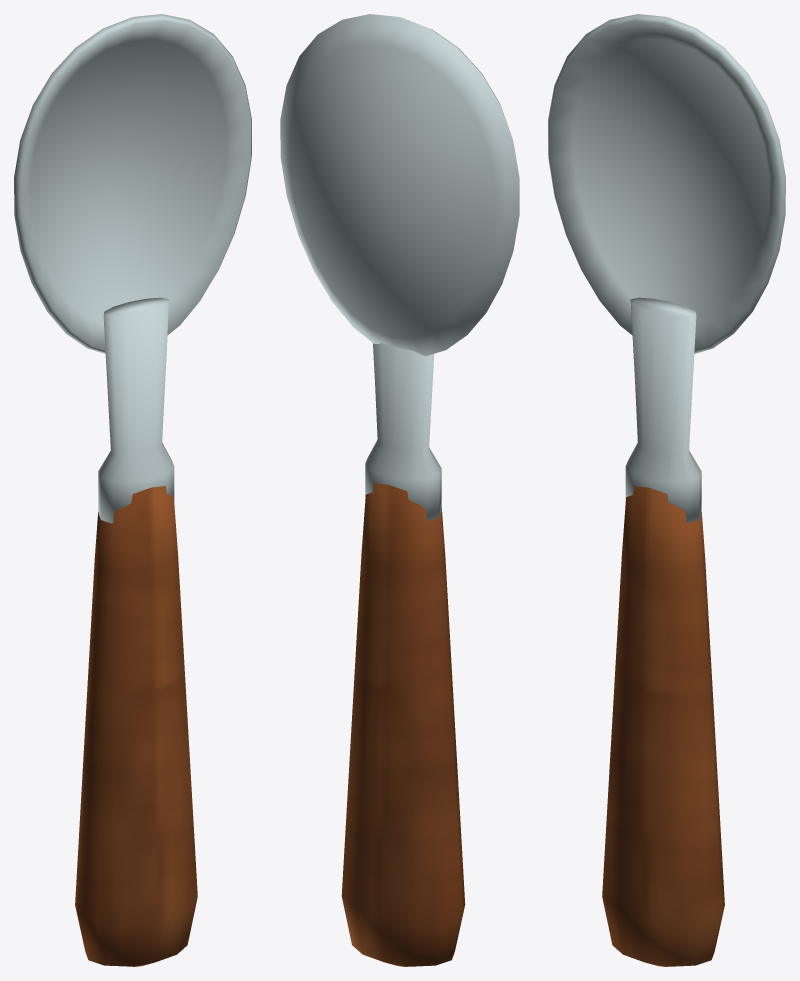
Rendered from spoon.glb.
3 renders of one model, left to right at view 1: azimuth 30°, elevation 25°; view 2: azimuth 150°, elevation 25°; view 3: azimuth 330°, elevation 25°, orthographic.
Parts seen in each view (by area): view 1: Чашечка ложки, Берёзовая рукоять, Шейка; view 2: Чашечка ложки, Берёзовая рукоять, Шейка; view 3: Чашечка ложки, Берёзовая рукоять, Шейка.
Boxes of the visible parts, box(x1,y1,x2,y2) form: Чашечка ложки: box(14, 14, 251, 353); Берёзовая рукоять: box(75, 486, 197, 966); Шейка: box(98, 297, 174, 523); Чашечка ложки: box(280, 14, 519, 355); Берёзовая рукоять: box(341, 483, 465, 966); Шейка: box(365, 343, 441, 520); Чашечка ложки: box(548, 14, 785, 353); Берёзовая рукоять: box(602, 486, 724, 966); Шейка: box(625, 297, 701, 522).
Size of the model in its own units: 0.094 by 0.3555 by 0.038.
Materials: 2 (1 with a texture image).
